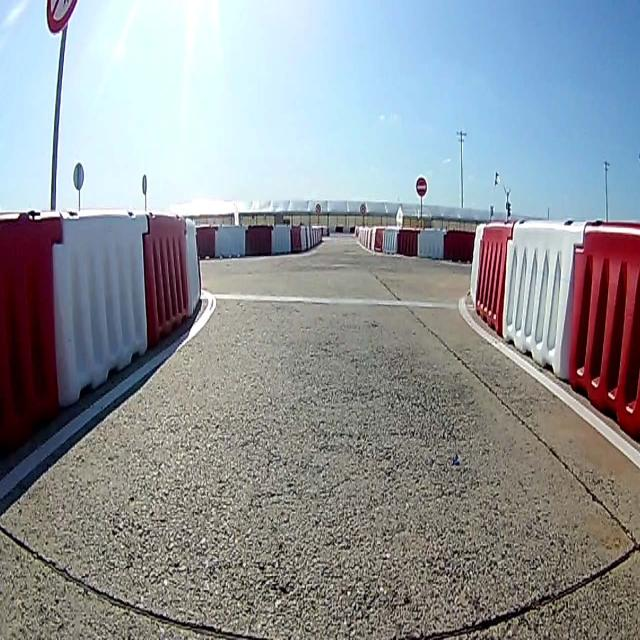girisyok: (414, 175, 427, 197)
